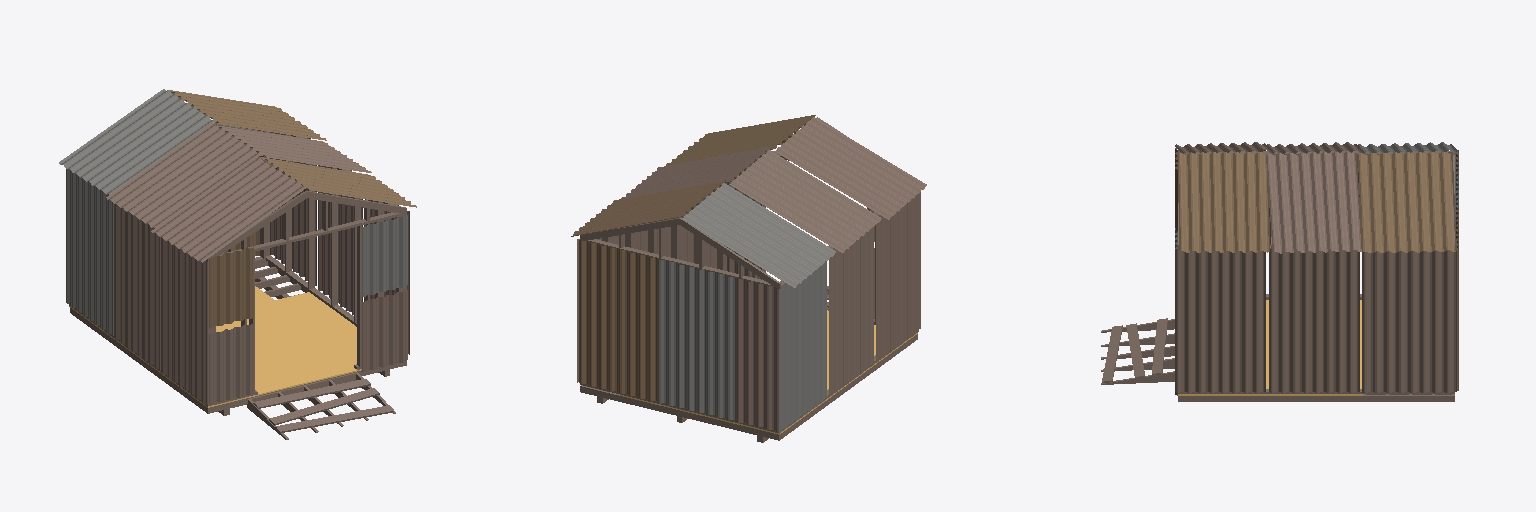
Rendered from shack.obj.
3 views of the same model, side by side, from view 1: azimuth 30°, elevation 25°; view 2: azimuth 150°, elevation 25°; view 3: azimuth 270°, elevation 25° (orthographic).
Parts seen in each view (by area): view 1: Frame_Mesh74_Group24_Group22_floor_framing1_Component_2_1_Storag, Sheeting..006_Mesh106_Corrugated_5_6_Group1_Model, Sheeting..004_Mesh104_Corrugated_5_4_Group1_Model, Sheeting..005_Mesh105_Corrugated_5_5_Group1_Model, Sheeting..003_Mesh98_Corrugated3_Group1_Model, Sheeting..001_Mesh101_Corrugated5_Group1_Model, Sheeting..002_Mesh99_Corrugated4_Group1_Model, Floorboards.002_Mesh22_G_2x8_panel1_Storage_Shed1_Group1_Model, Sheeting..007_Mesh97_Corrugated_6_2_Group1_Model, Sheeting..008_Mesh94_Corrugated_6_1_Group1_Model, Sheeting._Mesh110_Corrugated_6_4_Group1_Model, Sheeting.__Mesh108_Corrugated_6_3_Group1_Model (+8 smaller); view 2: Sheeting..015_Mesh92_Corrugated_3_1_Group1_Model, Sheeting..016_Mesh109_Corrugated_3_2_Group1_Model, Sheeting..006_Mesh106_Corrugated_5_6_Group1_Model, Sheeting..005_Mesh105_Corrugated_5_5_Group1_Model, Sheeting..004_Mesh104_Corrugated_5_4_Group1_Model, Frame_Mesh74_Group24_Group22_floor_framing1_Component_2_1_Storag, Sheeting..003_Mesh98_Corrugated3_Group1_Model, Sheeting..017_Mesh102_Corrugated_10_1_Group1_Model, Sheeting..002_Mesh99_Corrugated4_Group1_Model, Sheeting..001_Mesh101_Corrugated5_Group1_Model, Sheeting..011_Mesh93_Corrugated_5_1_Group1_Model, Sheeting..010_Mesh103_Corrugated_5_3_Group1_Model (+3 smaller); view 3: Sheeting..012_Mesh96_Corrugated2_Group1_Model, Sheeting..014_Mesh107_Corrugated6_Group1_Model, Sheeting..013_Mesh95_Corrugated1_Group1_Model, Sheeting..011_Mesh93_Corrugated_5_1_Group1_Model, Sheeting..010_Mesh103_Corrugated_5_3_Group1_Model, Sheeting..009_Mesh100_Corrugated_5_2_Group1_Model, Frame_Mesh74_Group24_Group22_floor_framing1_Component_2_1_Storag, Sheeting..006_Mesh106_Corrugated_5_6_Group1_Model, Sheeting..004_Mesh104_Corrugated_5_4_Group1_Model, Sheeting..005_Mesh105_Corrugated_5_5_Group1_Model.
Boxes of the visible parts, x1,y1,x2,y2 form: Frame_Mesh74_Group24_Group22_floor_framing1_Component_2_1_Storag: [69, 93, 406, 439]; Sheeting..006_Mesh106_Corrugated_5_6_Group1_Model: [59, 89, 215, 194]; Sheeting..004_Mesh104_Corrugated_5_4_Group1_Model: [151, 156, 306, 262]; Sheeting..005_Mesh105_Corrugated_5_5_Group1_Model: [106, 123, 260, 227]; Sheeting..003_Mesh98_Corrugated3_Group1_Model: [66, 169, 113, 335]; Sheeting..001_Mesh101_Corrugated5_Group1_Model: [162, 238, 207, 404]; Sheeting..002_Mesh99_Corrugated4_Group1_Model: [115, 204, 160, 370]; Floorboards.002_Mesh22_G_2x8_panel1_Storage_Shed1_Group1_Model: [255, 334, 361, 387]; Sheeting..007_Mesh97_Corrugated_6_2_Group1_Model: [362, 290, 407, 371]; Sheeting..008_Mesh94_Corrugated_6_1_Group1_Model: [362, 215, 407, 296]; Sheeting._Mesh110_Corrugated_6_4_Group1_Model: [209, 246, 253, 328]; Sheeting.__Mesh108_Corrugated_6_3_Group1_Model: [209, 323, 253, 404]; Sheeting..015_Mesh92_Corrugated_3_1_Group1_Model: [579, 240, 657, 401]; Sheeting..016_Mesh109_Corrugated_3_2_Group1_Model: [658, 260, 735, 420]; Sheeting..006_Mesh106_Corrugated_5_6_Group1_Model: [682, 183, 835, 287]; Sheeting..005_Mesh105_Corrugated_5_5_Group1_Model: [729, 150, 881, 253]; Sheeting..004_Mesh104_Corrugated_5_4_Group1_Model: [775, 117, 926, 219]; Frame_Mesh74_Group24_Group22_floor_framing1_Component_2_1_Storag: [580, 117, 917, 442]; Sheeting..003_Mesh98_Corrugated3_Group1_Model: [779, 261, 826, 432]; Sheeting..017_Mesh102_Corrugated_10_1_Group1_Model: [736, 278, 778, 431]; Sheeting..002_Mesh99_Corrugated4_Group1_Model: [829, 227, 873, 396]; Sheeting..001_Mesh101_Corrugated5_Group1_Model: [876, 192, 920, 361]; Sheeting..011_Mesh93_Corrugated_5_1_Group1_Model: [571, 180, 725, 236]; Sheeting..010_Mesh103_Corrugated_5_3_Group1_Model: [621, 147, 769, 198]; Sheeting..012_Mesh96_Corrugated2_Group1_Model: [1362, 250, 1456, 392]; Sheeting..014_Mesh107_Corrugated6_Group1_Model: [1175, 249, 1265, 392]; Sheeting..013_Mesh95_Corrugated1_Group1_Model: [1269, 249, 1359, 392]; Sheeting..011_Mesh93_Corrugated_5_1_Group1_Model: [1358, 152, 1456, 252]; Sheeting..010_Mesh103_Corrugated_5_3_Group1_Model: [1266, 151, 1361, 253]; Sheeting..009_Mesh100_Corrugated_5_2_Group1_Model: [1177, 152, 1269, 252]; Frame_Mesh74_Group24_Group22_floor_framing1_Component_2_1_Storag: [1101, 147, 1454, 401]; Sheeting..006_Mesh106_Corrugated_5_6_Group1_Model: [1358, 142, 1457, 153]; Sheeting..004_Mesh104_Corrugated_5_4_Group1_Model: [1175, 142, 1272, 153]; Sheeting..005_Mesh105_Corrugated_5_5_Group1_Model: [1267, 142, 1363, 153].
Size of the model in its own units: 2.75 by 2.44 by 3.79.